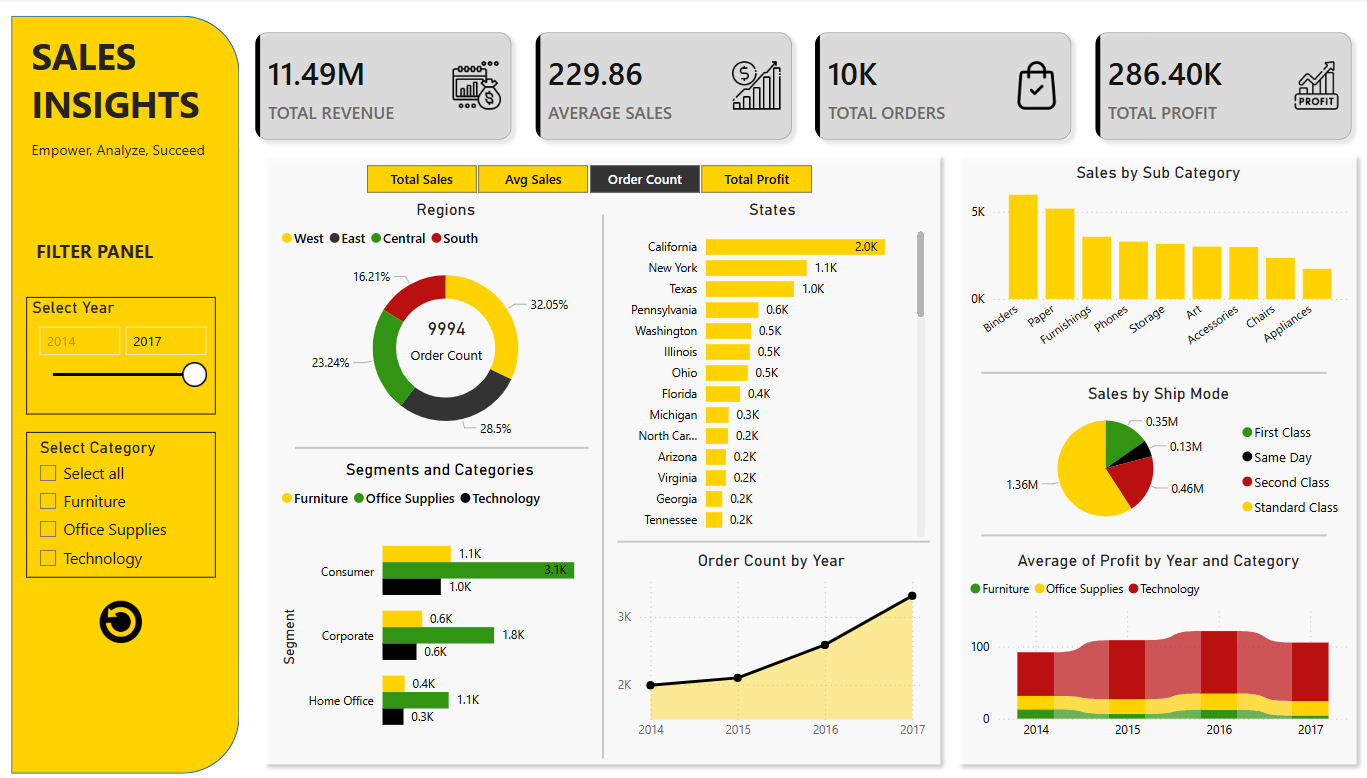

Layout of this report page (visuals, bound fields, positions):
{"tool":"powerbi","page":{"name":"Page 1","canvas":[1400,800],"ordinal":0},"visuals":[{"type":"shape","box":[10.9,13.6,233.1,774.4],"z":0},{"type":"textbox","box":[27,24,216.1,133.6],"z":1000},{"type":"textbox","box":[27.3,135,207.2,46.4],"z":2000},{"type":"cardVisual","fields":{"Data":["Sample - Superstore.TotalSales","Sample - Superstore.AvgSales","Sample - Superstore.OrderCount","Sample - Superstore.TotalProfit"]},"box":[244,13.6,1156.1,144.5],"z":3000},{"type":"shape","box":[260.4,147.2,708.9,640.8],"z":4000},{"type":"slicer","fields":{"Values":["Metrics.Metrics"]},"box":[349,159.5,504.4,42.3],"z":5000},{"type":"donutChart","title":"Regions","fields":{"Y":["Sample - Superstore.OrderCount"],"Category":["Sample - Superstore.Region"]},"box":[282.2,201.8,346.3,254.9],"z":6000},{"type":"card","fields":{"Values":["Sample - Superstore.OrderCount"]},"box":[402.2,309.5,107.7,68.2],"z":7000},{"type":"clusteredBarChart","title":"Segments and Categories","fields":{"Y":["Sample - Superstore.OrderCount"],"Category":["Sample - Superstore.Segment"],"Series":["Sample - Superstore.Category"]},"box":[282.2,467.6,334,305.4],"z":8000},{"type":"shape","box":[301.3,411.7,299.9,88.6],"z":9000},{"type":"shape","box":[576.7,216.8,77.7,556.2],"z":10000},{"type":"barChart","title":"States","fields":{"Y":["Sample - Superstore.OrderCount"],"Category":["Sample - Superstore.State"]},"box":[628.5,201.8,321.7,350.4],"z":11000},{"type":"shape","box":[631.2,507.2,319,88.6],"z":12000},{"type":"shape","box":[969.3,147.2,425.4,640.8],"z":13000},{"type":"shape","box":[1002.1,334,353.1,88.6],"z":14000},{"type":"pieChart","title":"Sales by Ship Mode","fields":{"Series":["Sample - Superstore.Ship Mode"],"Y":["Sum(Sample - Superstore.Sales)"]},"box":[985.7,389.9,395.4,155.4],"z":15000},{"type":"lineClusteredColumnComboChart","title":"Sales by Sub Category","fields":{"Category":["Sample - Superstore.Sub-Category"],"Y":["Sum(Sample - Superstore.Quantity)"]},"box":[985.7,163.6,395.4,203.1],"z":16000},{"type":"ribbonChart","fields":{"Y":["Avg(Sample - Superstore.Profit)"],"Series":["Sample - Superstore.Category"],"Category":["Sample - Superstore.Order Date.Variation.Date Hierarchy.Year"]},"box":[985.7,560.3,395.4,201.8],"z":17000},{"type":"shape","box":[1002.1,500.3,353.1,88.6],"z":18000},{"type":"lineChart","fields":{"Y":["Sample - Superstore.OrderCount"],"Category":["Sample - Superstore.Order Date.Variation.Date Hierarchy.Year"]},"box":[625.8,560.3,324.5,201.8],"z":19000},{"type":"slicer","fields":{"Values":["Sample - Superstore.Category"]},"box":[27.4,439.8,193.3,149.1],"z":20000},{"type":"slicer","title":"Select Year","fields":{"Values":["Sample - Superstore.Order Date.Variation.Date Hierarchy.Year"]},"box":[27.4,301.3,193.3,120.2],"z":21000},{"type":"textbox","box":[31.4,235.9,158.1,47.7],"z":22000},{"type":"image","box":[97.4,605.7,53.3,56.3],"z":23000}]}

Visuals, with their boxes in screenshot pixels (x1, y1, x2, y2), scaled from the page's 1400x800 canvas onto the 1367x778 screenshot:
shape: x1=11 y1=13 x2=238 y2=766
textbox: x1=26 y1=23 x2=237 y2=153
textbox: x1=27 y1=131 x2=229 y2=176
cardVisual - Sample - Superstore.TotalSales x Sample - Superstore.AvgSales: x1=238 y1=13 x2=1366 y2=154
shape: x1=254 y1=143 x2=946 y2=766
slicer - Metrics.Metrics: x1=341 y1=155 x2=833 y2=196
"Regions" donutChart: x1=276 y1=196 x2=614 y2=444
card - Sample - Superstore.OrderCount: x1=393 y1=301 x2=498 y2=367
"Segments and Categories" clusteredBarChart: x1=276 y1=455 x2=602 y2=752
shape: x1=294 y1=400 x2=587 y2=487
shape: x1=563 y1=211 x2=639 y2=752
"States" barChart: x1=614 y1=196 x2=928 y2=537
shape: x1=616 y1=493 x2=928 y2=579
shape: x1=946 y1=143 x2=1362 y2=766
shape: x1=978 y1=325 x2=1323 y2=411
"Sales by Ship Mode" pieChart: x1=962 y1=379 x2=1349 y2=530
"Sales by Sub Category" lineClusteredColumnComboChart: x1=962 y1=159 x2=1349 y2=357
ribbonChart - Avg(Sample - Superstore.Profit) x Sample - Superstore.Category: x1=962 y1=545 x2=1349 y2=741
shape: x1=978 y1=487 x2=1323 y2=573
lineChart - Sample - Superstore.OrderCount x Sample - Superstore.Order Date.Variation.Date Hierarchy.Year: x1=611 y1=545 x2=928 y2=741
slicer - Sample - Superstore.Category: x1=27 y1=428 x2=215 y2=573
"Select Year" slicer: x1=27 y1=293 x2=215 y2=410
textbox: x1=31 y1=229 x2=185 y2=276
image: x1=95 y1=589 x2=147 y2=644
